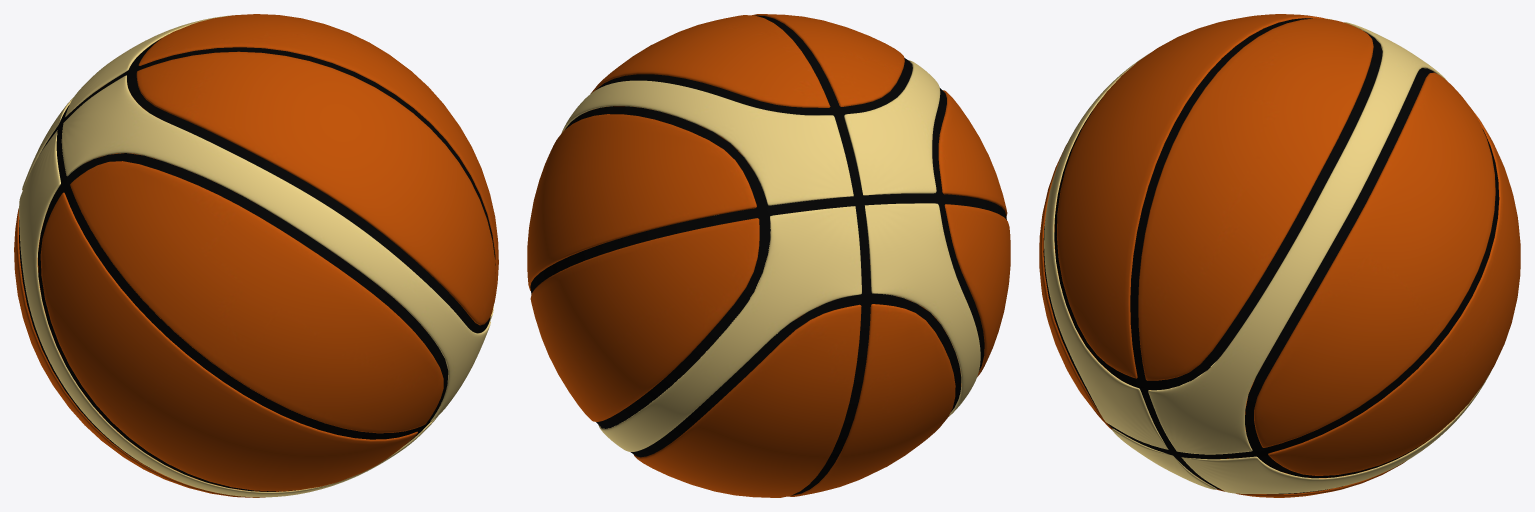
Rendered from basket_ball.glb.
The picture shows the model from 3 angles, left to right: view 1: azimuth 30°, elevation 25°; view 2: azimuth 150°, elevation 25°; view 3: azimuth 270°, elevation 25°; orthographic projection.
Visible parts, largest first — view 1: Object_2, Object_3; view 2: Object_2, Object_3; view 3: Object_2, Object_3.
Part boxes in pixels (box(x1,y1,x2,y2)): Object_2: box(14, 14, 498, 497); Object_3: box(19, 14, 493, 497); Object_2: box(527, 14, 1010, 497); Object_3: box(561, 60, 980, 451); Object_2: box(1039, 14, 1520, 497); Object_3: box(1044, 18, 1490, 493).
Bounding box in the file's own units: 1.99 × 1.98 × 1.98.
Materials: 1 (1 with a texture image).
